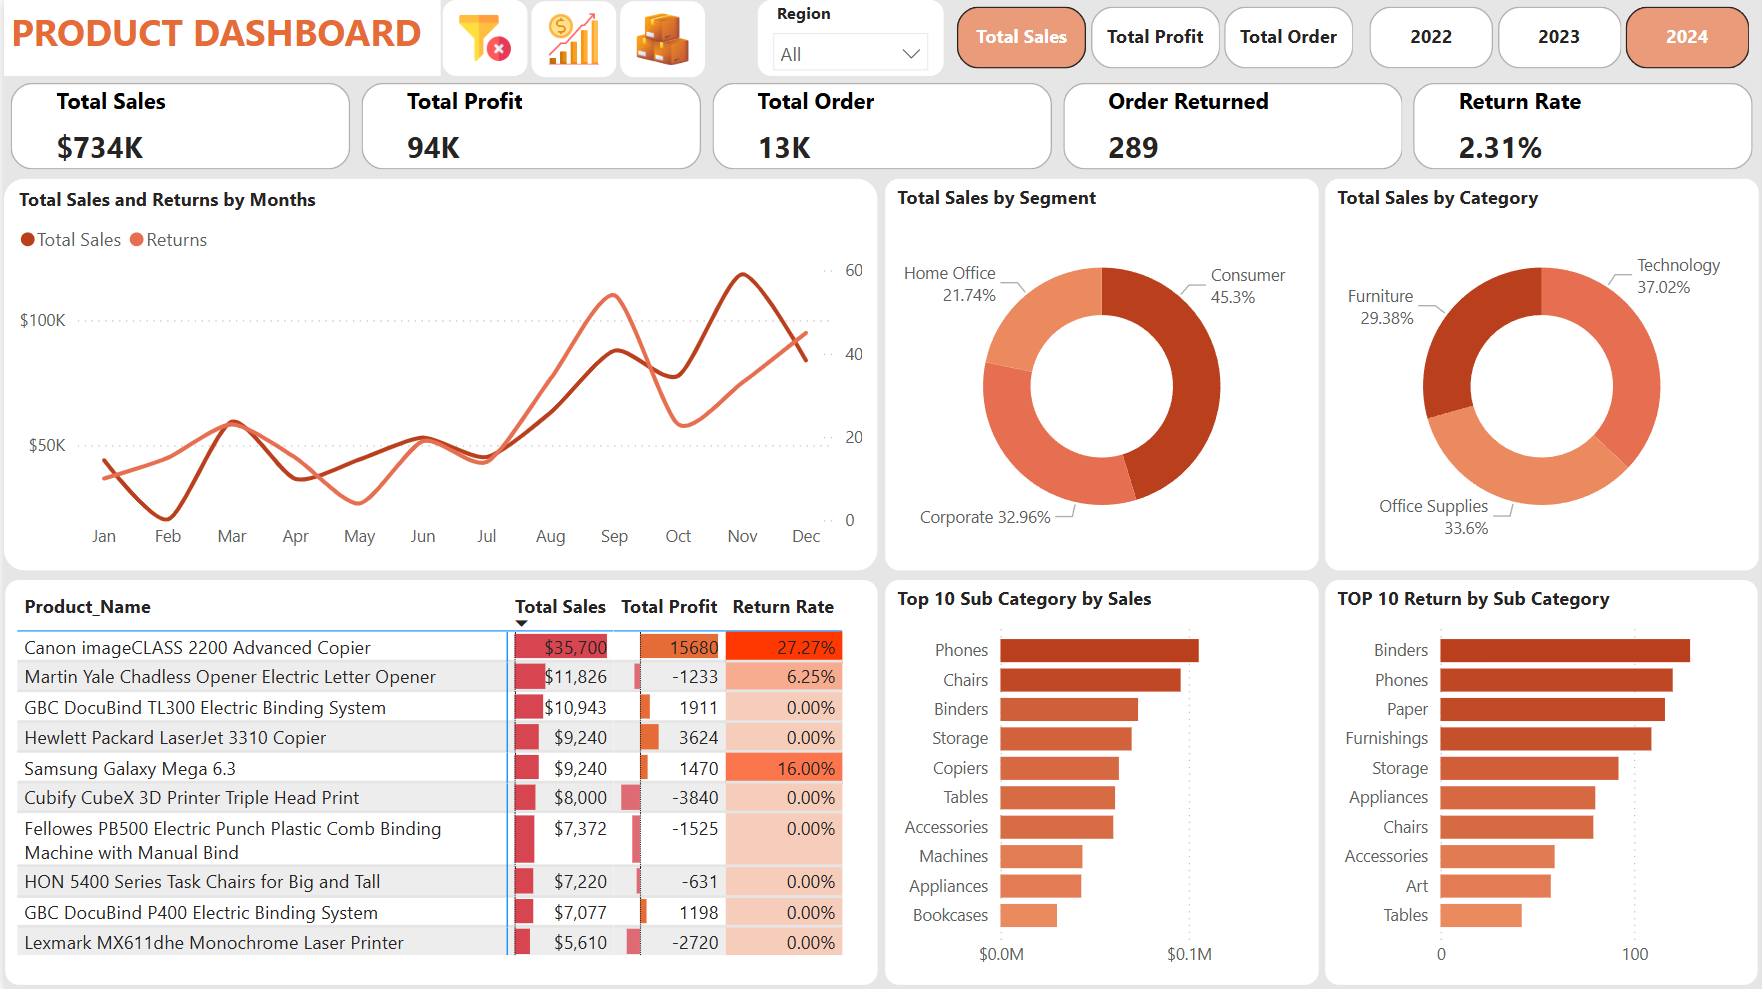

What the dashboard file says about the page in this screenshot:
{"tool":"powerbi","page":{"name":"Product Dashboard","canvas":[1280,720],"ordinal":1},"visuals":[{"type":"textbox","box":[0,0,317.8,55.2],"z":0},{"type":"cardVisual","fields":{"Data":["Measure Table.Total Sales","Measure Table.Total Profit","Measure Table.Total Order","Measure Table.Order Returned","Measure Table.Return Rate"]},"box":[0,55.2,1279.8,73.6],"z":1000},{"type":"advancedSlicerVisual","fields":{"Values":["Parameter.Parameter"]},"box":[688.3,0,299.4,55.2],"z":2000},{"type":"advancedSlicerVisual","fields":{"Values":["dates.Year"]},"box":[987.7,0,288.3,55.2],"z":3000},{"type":"donutChart","fields":{"Y":["Measure Table.Total Sales"],"Category":["sales.Category"]},"box":[960.7,130.1,315.3,284.7],"z":4000},{"type":"barChart","title":"Top 10 Sub Category by Sales","fields":{"Y":["Measure Table.Total Sales"],"Category":["sales.Sub_Category"]},"box":[640.5,422.1,315.3,294.5],"z":5000},{"type":"clusteredBarChart","title":"TOP 10 Return by Sub Category","fields":{"Y":["Measure Table.Order Returned"],"Category":["sales.Sub_Category"]},"box":[960.7,422.1,314.1,294.5],"z":6000},{"type":"pivotTable","fields":{"Rows":["sales.Product_Name"],"Values":["Measure Table.Total Sales","Measure Table.Total Profit","Measure Table.Return Rate"]},"box":[1.2,422.1,634.4,294.5],"z":7000},{"type":"slicer","fields":{"Values":["sales.Region"]},"box":[548.5,0,135,55.2],"z":8000},{"type":"donutChart","fields":{"Y":["Measure Table.Total Sales"],"Category":["sales.Segment"]},"box":[640.5,130.1,315.3,284.7],"z":9000},{"type":"lineChart","fields":{"Y":["Measure Table.Total Sales"],"Y2":["Measure Table.Order Returned"],"Category":["dates.Month Name"]},"box":[0,130.1,635.6,284.7],"z":10000},{"type":"image","box":[319,0,61.4,55.2],"z":10001},{"type":"image","box":[384.1,1.2,61.4,55.2],"z":10002},{"type":"image","box":[447.9,1.2,61.4,55.2],"z":10003}]}

Visuals, with their boxes in screenshot pixels (x1, y1, x2, y2), scaled from the page's 1280x720 canvas onto the 1762x989 screenshot:
textbox: detection(0, 0, 437, 76)
cardVisual - Measure Table.Total Sales x Measure Table.Total Profit: detection(0, 76, 1761, 177)
advancedSlicerVisual - Parameter.Parameter: detection(947, 0, 1360, 76)
advancedSlicerVisual - dates.Year: detection(1360, 0, 1756, 76)
donutChart - Measure Table.Total Sales x sales.Category: detection(1322, 179, 1756, 570)
"Top 10 Sub Category by Sales" barChart: detection(882, 580, 1316, 984)
"TOP 10 Return by Sub Category" clusteredBarChart: detection(1322, 580, 1755, 984)
pivotTable - sales.Product_Name x Measure Table.Total Sales: detection(2, 580, 875, 984)
slicer - sales.Region: detection(755, 0, 941, 76)
donutChart - Measure Table.Total Sales x sales.Segment: detection(882, 179, 1316, 570)
lineChart - Measure Table.Total Sales x Measure Table.Order Returned: detection(0, 179, 875, 570)
image: detection(439, 0, 524, 76)
image: detection(529, 2, 613, 77)
image: detection(617, 2, 701, 77)
